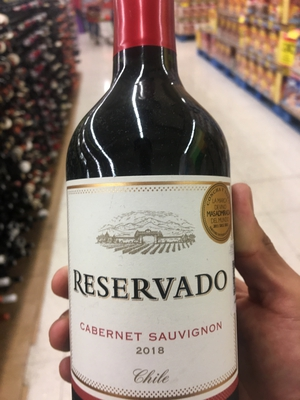reservado cabernet sauvignon: (55, 6, 245, 400)
